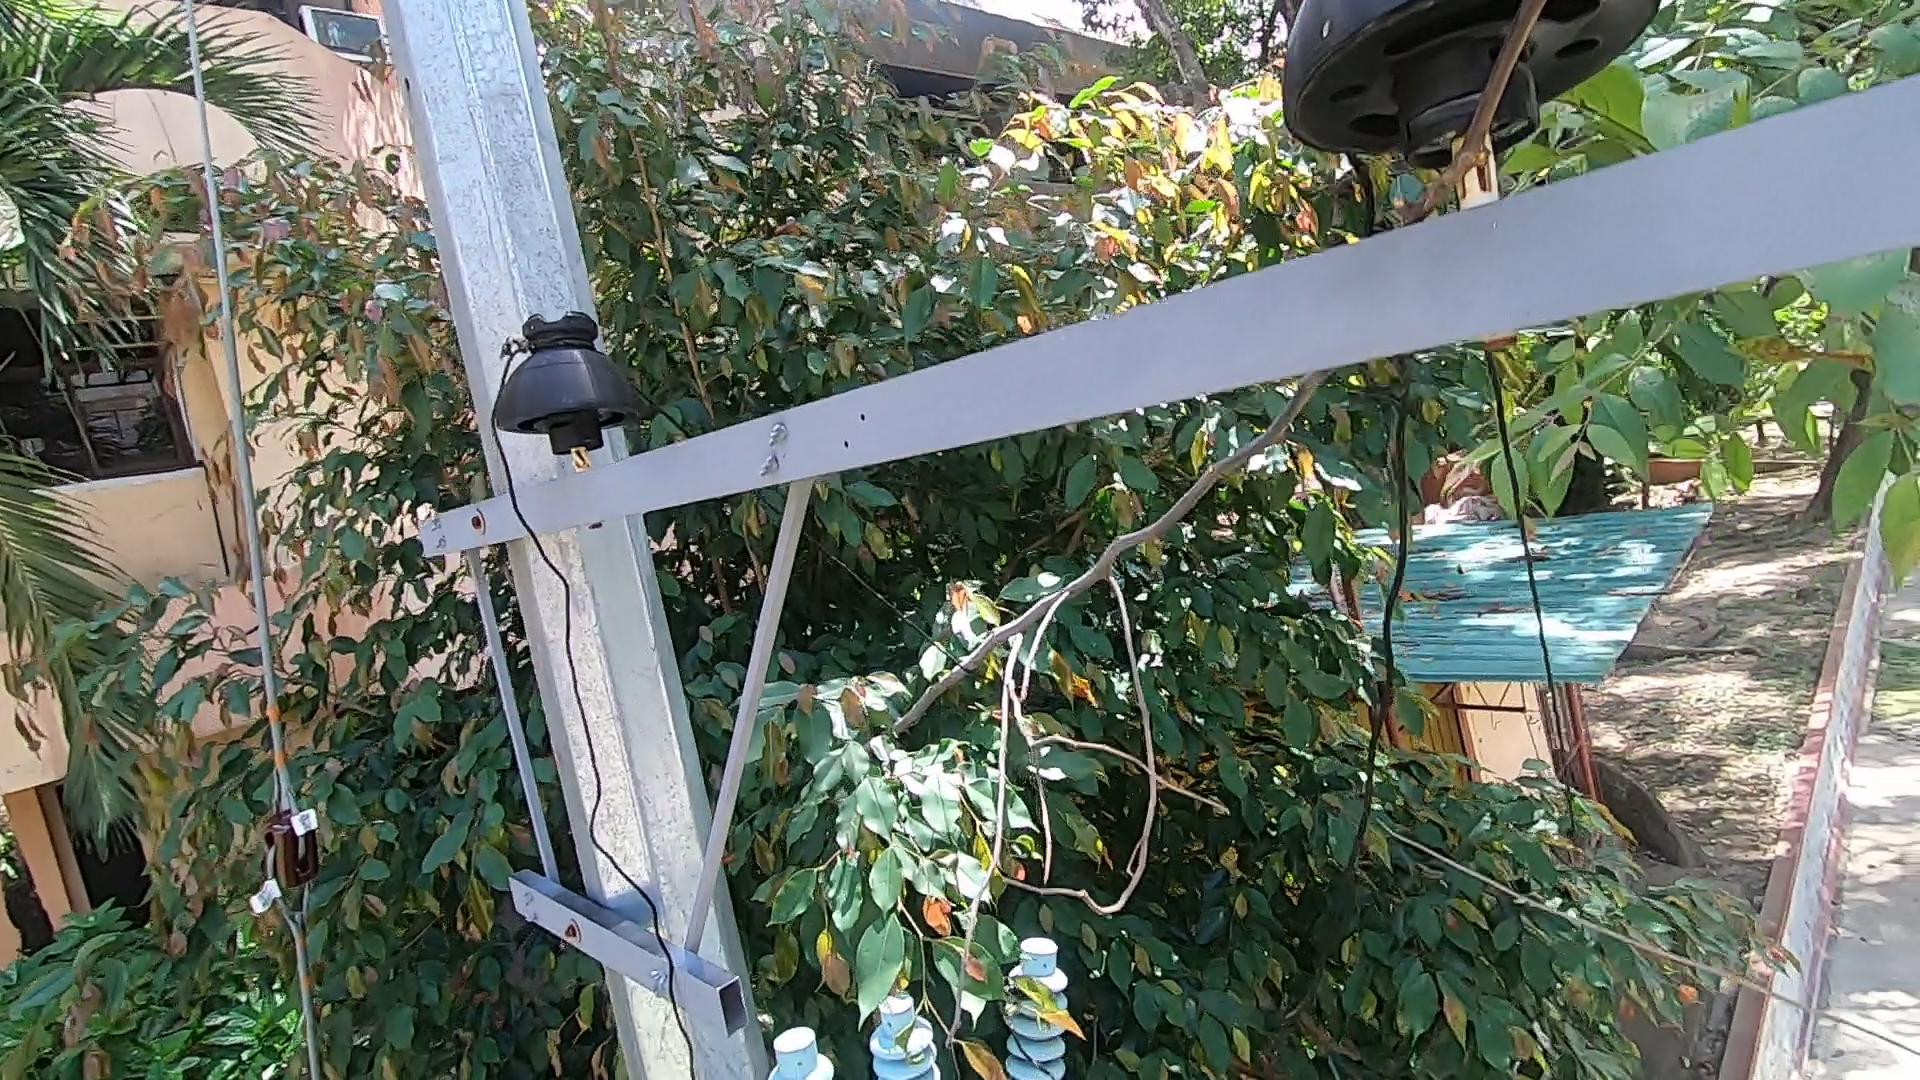tree branch: (851, 375, 1381, 981), (1356, 1, 1552, 233)
